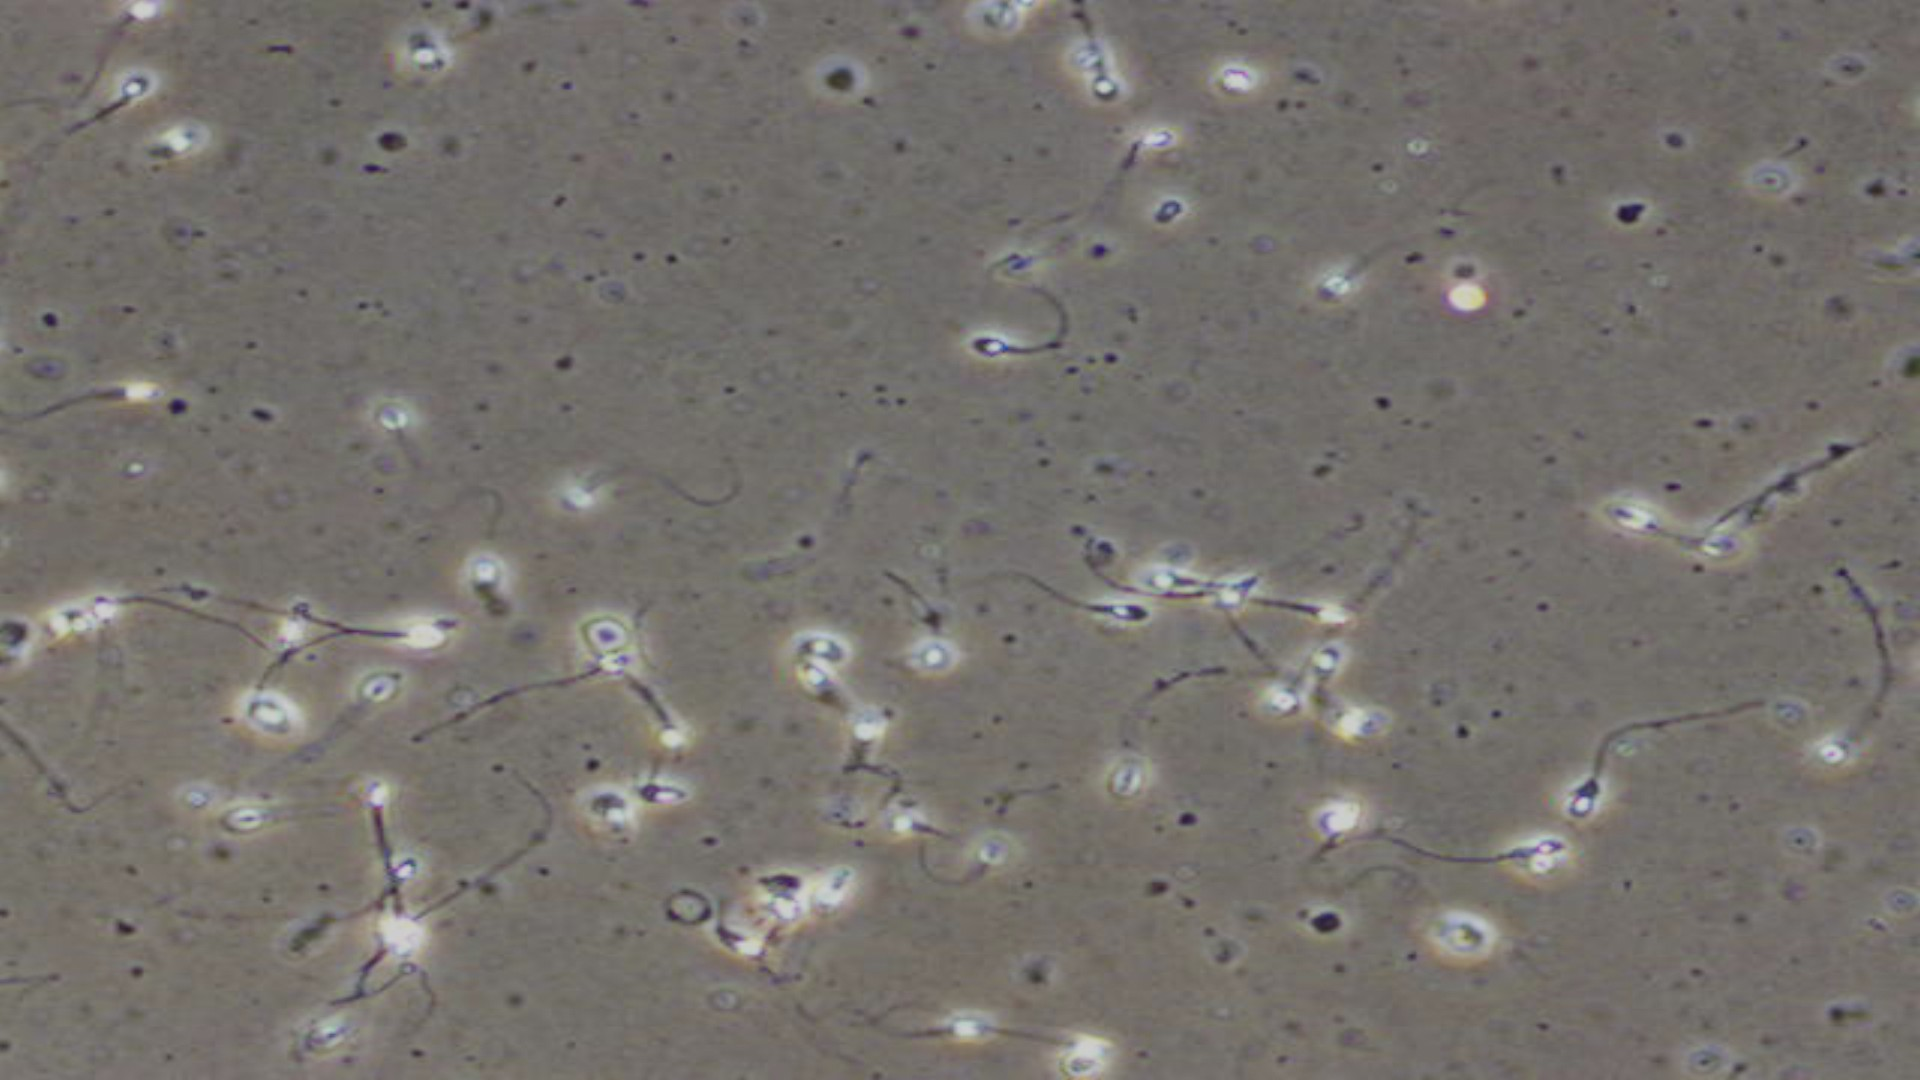sperm: (564, 456, 736, 539), (967, 284, 1092, 381), (1809, 657, 1871, 782), (88, 595, 235, 647), (504, 651, 642, 707), (38, 375, 167, 434), (74, 7, 178, 76), (1556, 717, 1621, 825), (1236, 582, 1365, 634), (1320, 233, 1407, 311), (353, 779, 406, 895), (335, 611, 444, 666), (1091, 131, 1171, 204), (611, 680, 684, 760), (865, 1000, 978, 1050), (1067, 9, 1127, 100), (78, 73, 150, 148), (1407, 836, 1571, 868), (1615, 493, 1692, 559), (1058, 592, 1153, 638), (882, 807, 968, 855), (1014, 1021, 1118, 1056)
